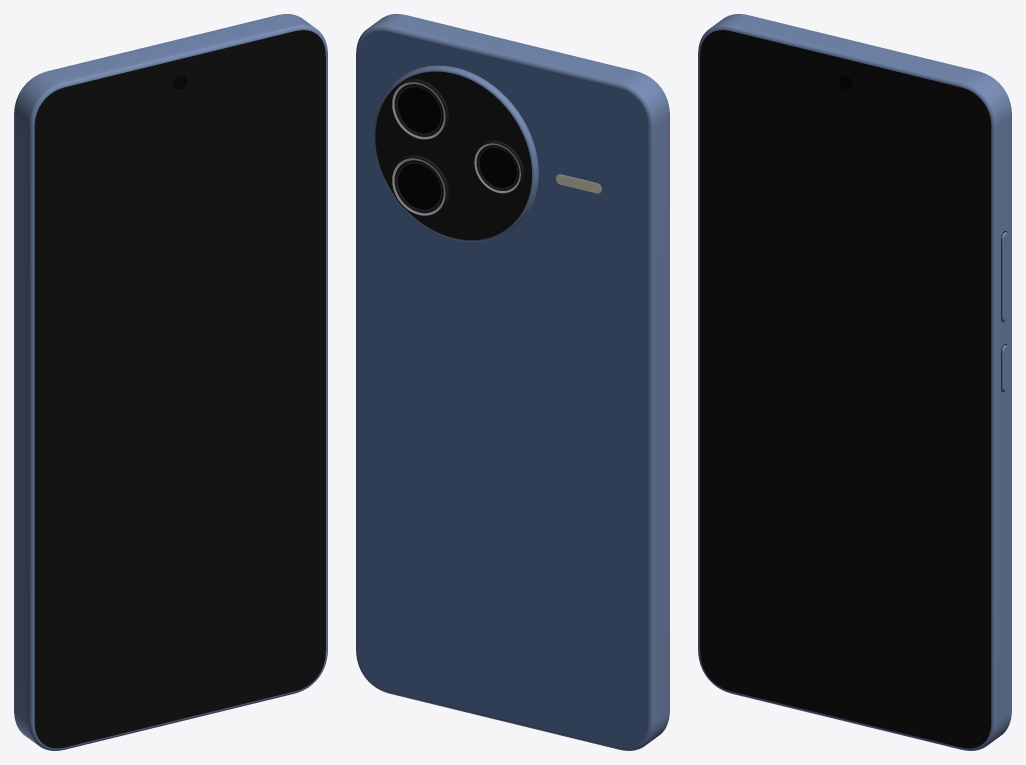
File: poco-f7-pro.glb
3 renders of one model, left to right at view 1: azimuth 30°, elevation 25°; view 2: azimuth 150°, elevation 25°; view 3: azimuth 330°, elevation 25°, orthographic.
Visible parts, largest first — view 1: body; view 2: body, camera; view 3: body, buttons.
Part boxes in pixels (<box>): body: <box>14,14,327,750</box>; body: <box>356,14,669,750</box>; camera: <box>374,65,601,241</box>; body: <box>698,14,1011,750</box>; buttons: <box>1001,231,1008,391</box>.
Size of the model in its own units: 75.38 by 160 by 10.22.
